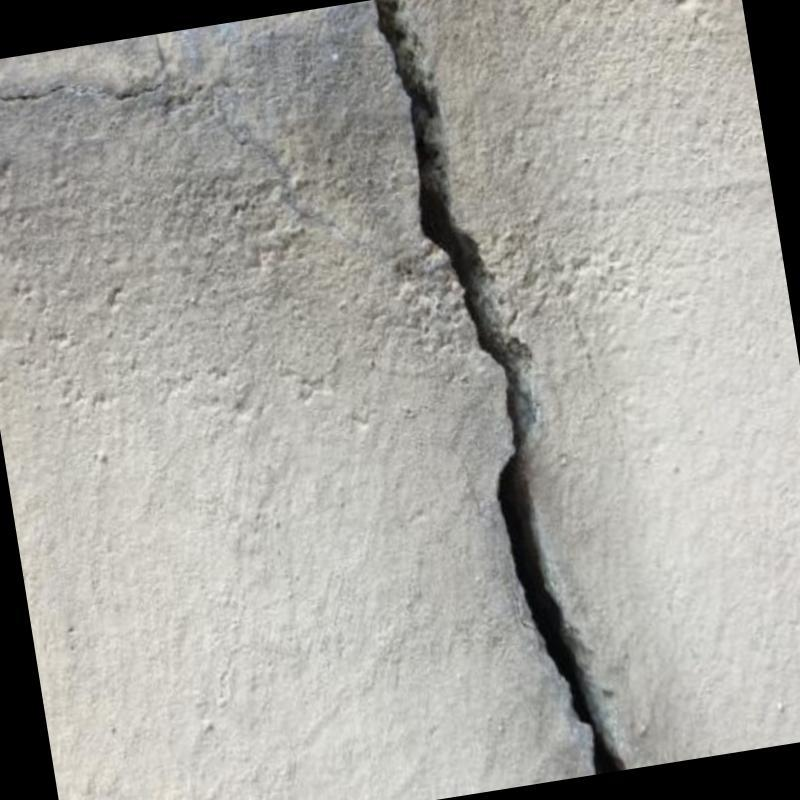crack: (372, 0, 627, 772)
